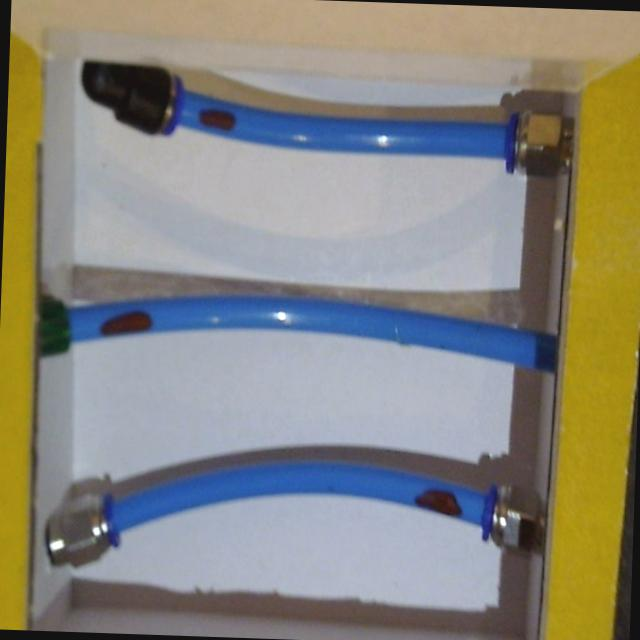hose_damage: (405, 473, 471, 525), (90, 304, 157, 344), (185, 101, 242, 136)
